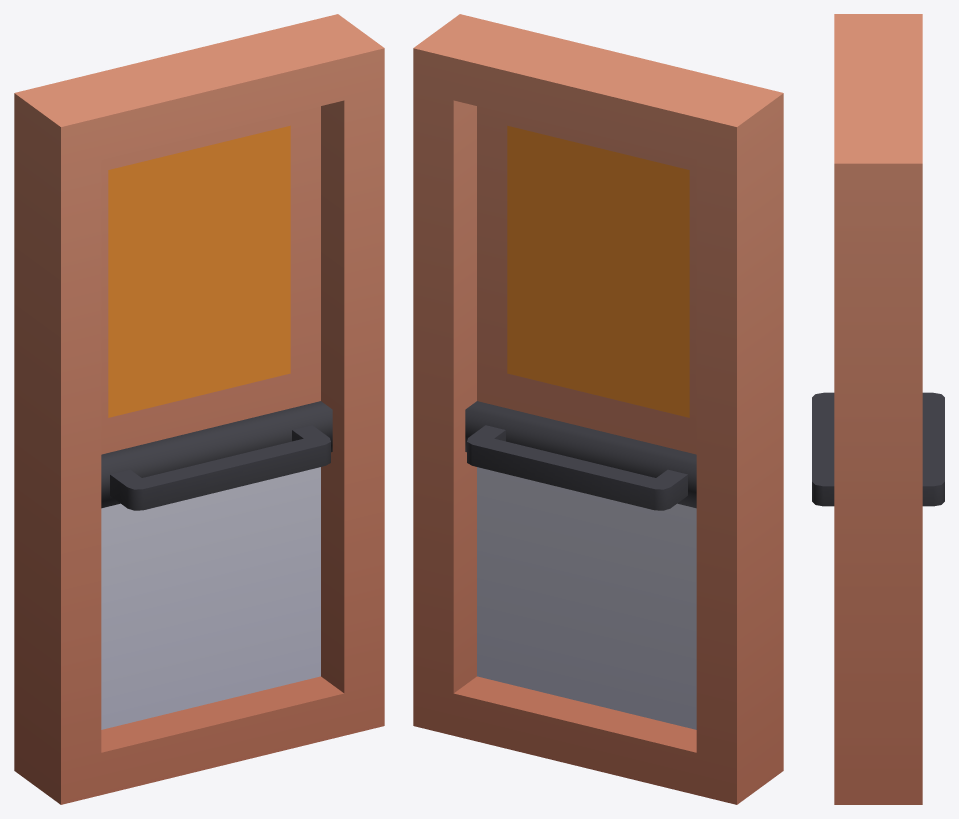
The model's file is door.obj.
3 views of the same model, side by side, from view 1: azimuth 30°, elevation 25°; view 2: azimuth 150°, elevation 25°; view 3: azimuth 270°, elevation 25° (orthographic). The views are drawn at different scales.
Visible parts, largest first — view 1: door; view 2: door; view 3: door.
Boxes of the visible parts, x1,y1,x2,y2 form: door: (14, 14, 384, 804); door: (413, 14, 783, 804); door: (812, 14, 944, 804).
Bounding box in the file's own units: 0.8 × 1.6 × 0.3.
